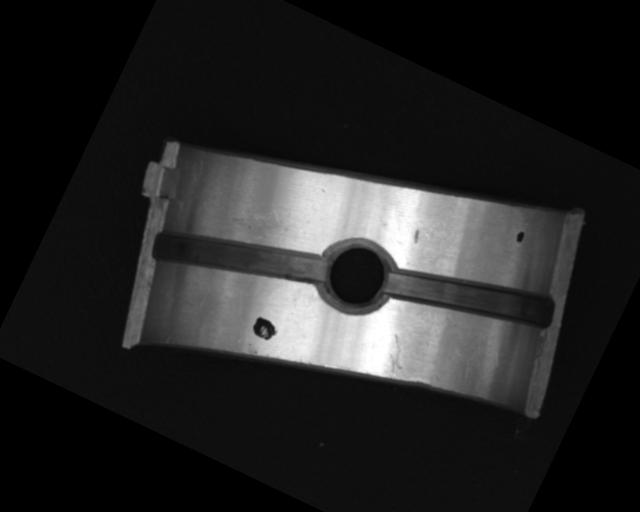blot: (249, 314, 282, 343), (513, 228, 527, 245)
bruise: (410, 228, 423, 245)
gap: (149, 188, 330, 325), (383, 232, 558, 360)
hole: (307, 228, 405, 323)
nick: (376, 332, 414, 380)
scratch: (222, 189, 297, 252)
